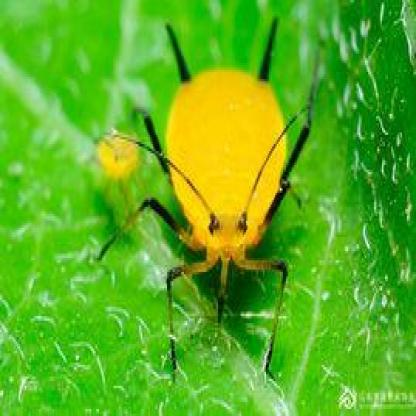aphid: (101, 15, 323, 383), (90, 122, 142, 191)
